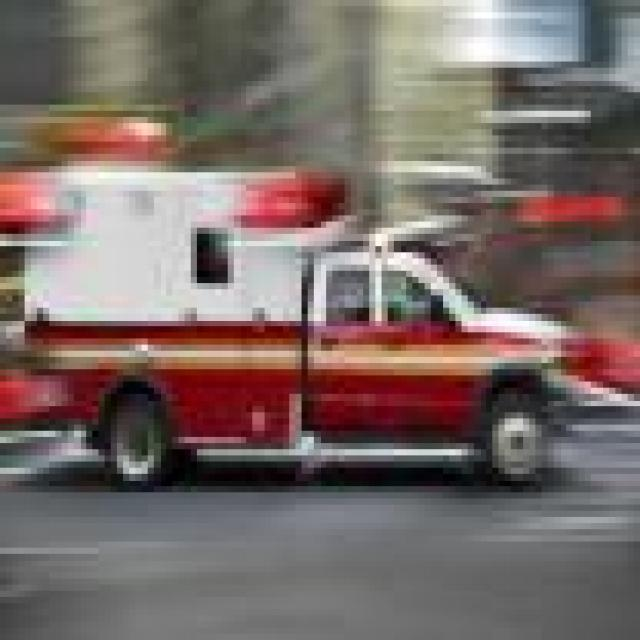emergency-vehicle: (9, 138, 594, 496)
